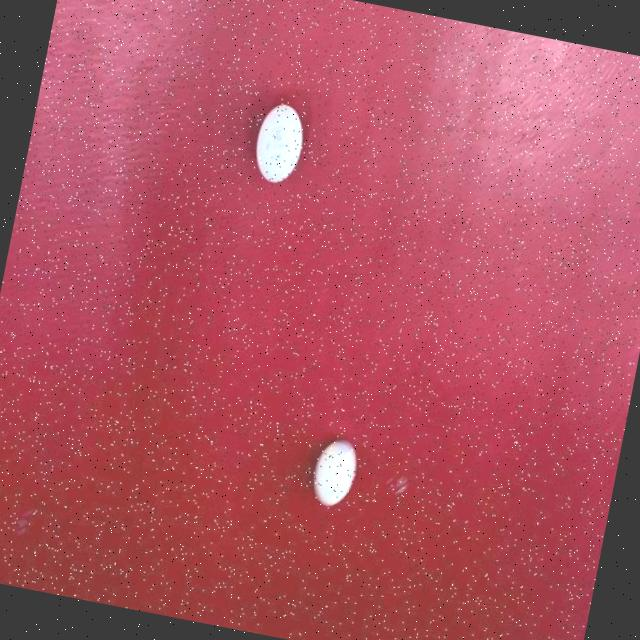ping-pong-ball: (246, 96, 313, 190), (304, 432, 364, 514)
